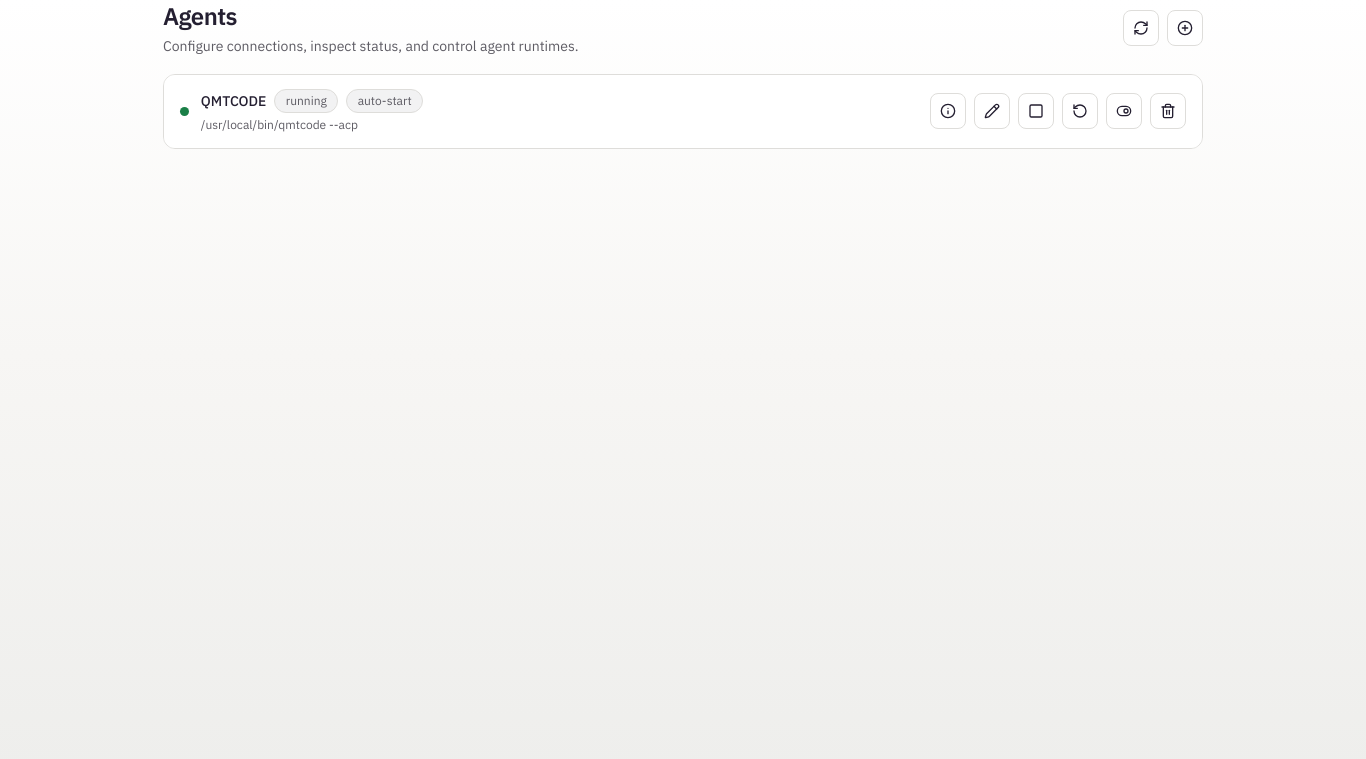
Test: Agents page › shows a placeholder when the agent has not been launched yet
Click the button named "Details for QMTCODE" at {"x": 948, "y": 111}, box x1=930 y1=93 x2=966 y2=129
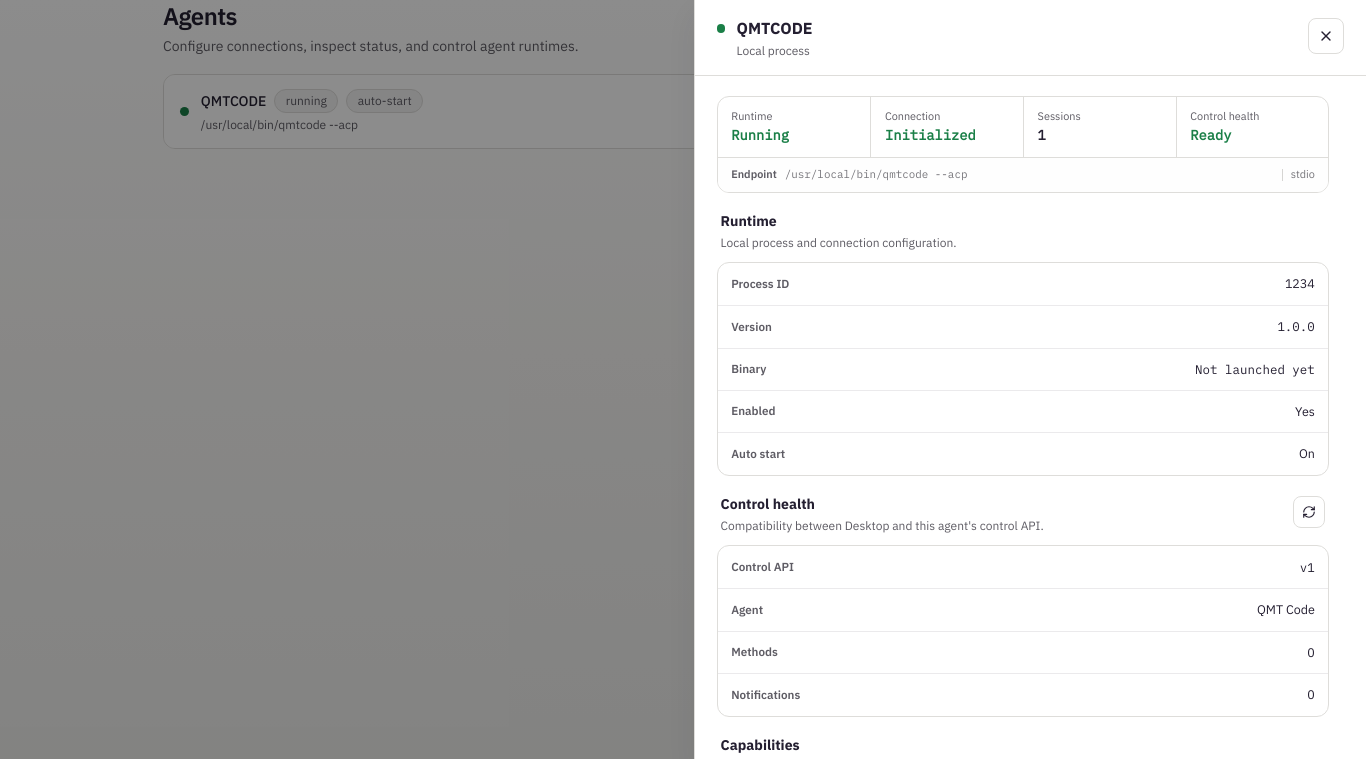
Now the text "Not launched yet" is shown, box x1=1195 y1=361 x2=1315 y2=377
